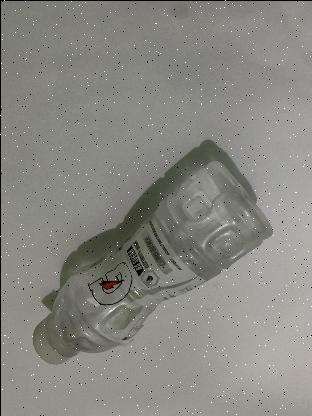Plastic Bottle: (32, 160, 272, 363)
